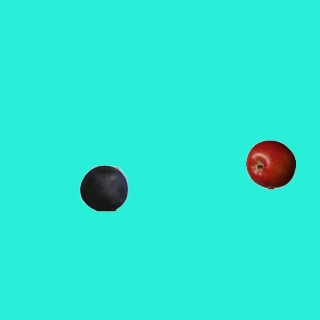Apple Braeburn: (245, 139, 295, 189)
Grape Blue: (78, 162, 128, 212)
